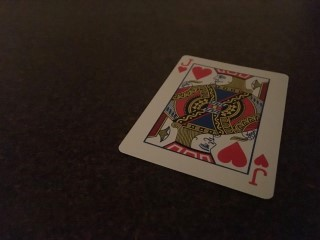JackOfHearts: (118, 55, 289, 200)
